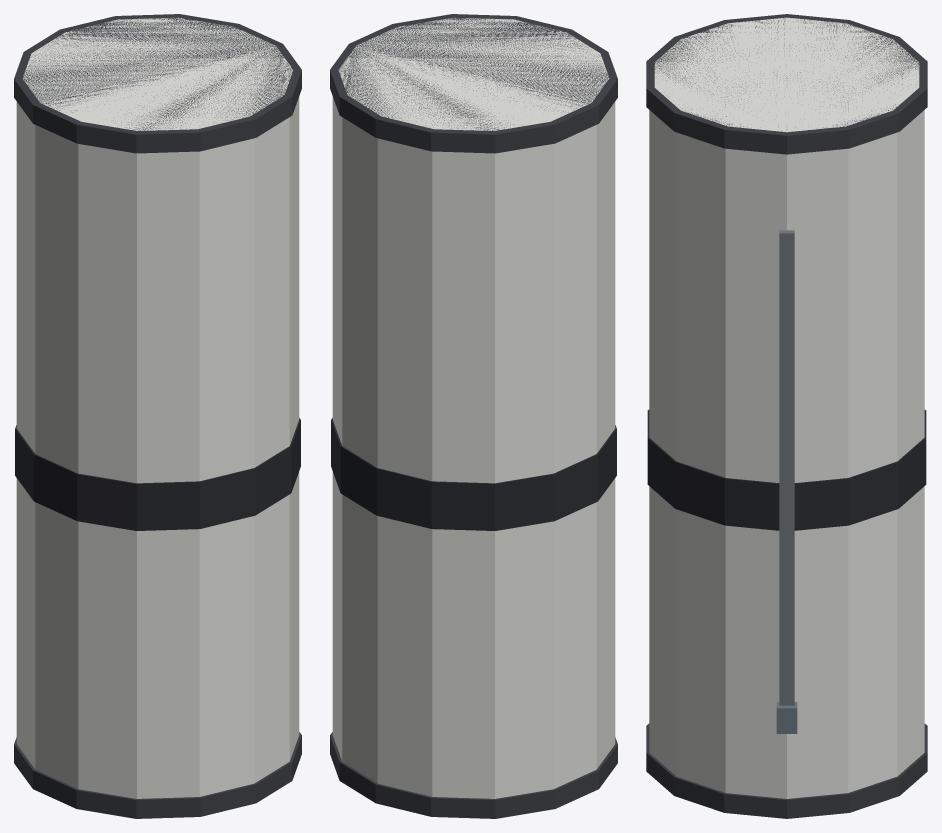
File: Tank_L_Long.fbx
3 views of the same model, side by side, from view 1: azimuth 30°, elevation 25°; view 2: azimuth 150°, elevation 25°; view 3: azimuth 270°, elevation 25° (orthographic).
Visible parts, largest first — view 1: Tank_L_Long; view 2: Tank_L_Long; view 3: Tank_L_Long.
Part boxes in pixels (x1,y1,x2,y2): Tank_L_Long: [14, 14, 301, 818]; Tank_L_Long: [330, 14, 617, 818]; Tank_L_Long: [646, 14, 927, 818].
Size of the model in its own units: 3.18 by 8 by 2.98.
Materials: 1 (1 with a texture image).
